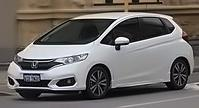Car hood: (16, 43, 95, 61)
Fender - -F-L-: (82, 41, 115, 92)
Fender - -R-L-: (169, 28, 189, 83)
Front bumper: (6, 60, 92, 93)
Headlight - -L-: (52, 52, 91, 67)
Headlight - -R-: (11, 53, 27, 65)
Passenger-s door - -F-L-: (109, 14, 145, 85)
Passenger-s door - -R-L-: (141, 14, 174, 82)
Rear bumper: (187, 53, 198, 77)
Rear light - -L-: (179, 28, 191, 43)
Side bumper - -L-: (109, 74, 173, 89)
Side mirror - -L-: (111, 34, 131, 50)
